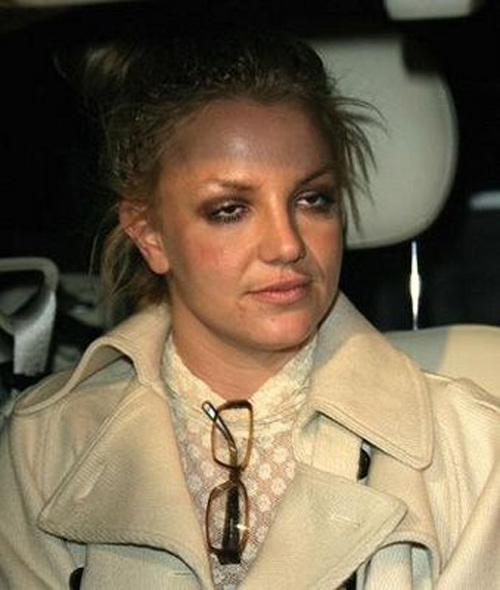Drunk: (177, 108, 337, 336)
